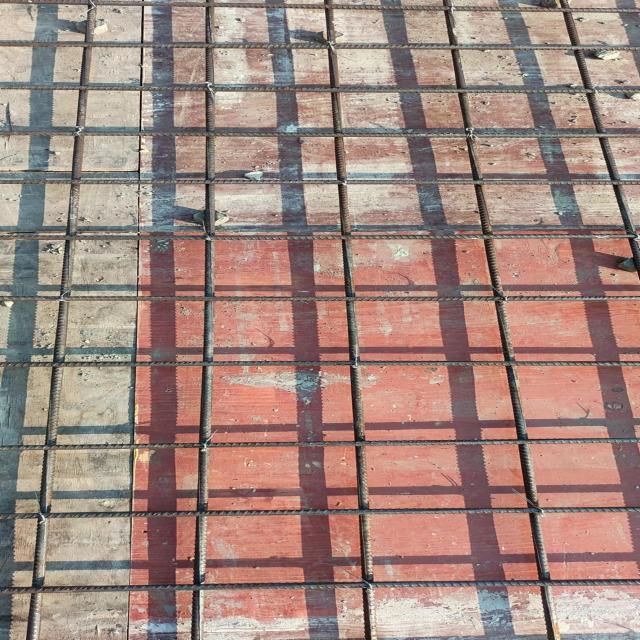ribbed bar: (439, 0, 560, 640), (23, 0, 102, 640), (320, 0, 382, 640), (557, 0, 639, 284), (184, 0, 218, 640), (0, 576, 639, 595), (0, 505, 639, 521), (0, 437, 639, 452), (0, 82, 639, 96), (0, 0, 639, 13), (0, 41, 639, 51), (0, 129, 639, 139), (0, 232, 639, 241), (0, 179, 639, 187), (0, 359, 639, 367), (0, 295, 639, 302)
